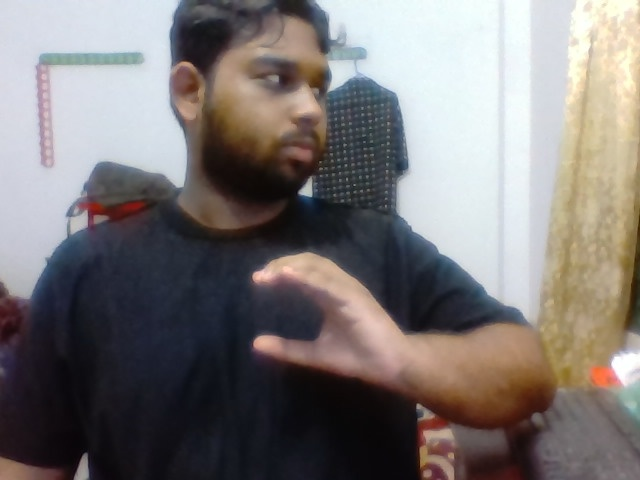C: (224, 242, 405, 409)
